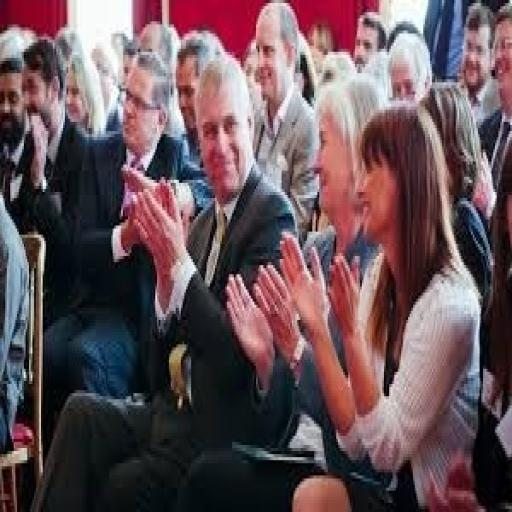clapping: (271, 57, 462, 512), (118, 67, 333, 463), (220, 36, 426, 446)
